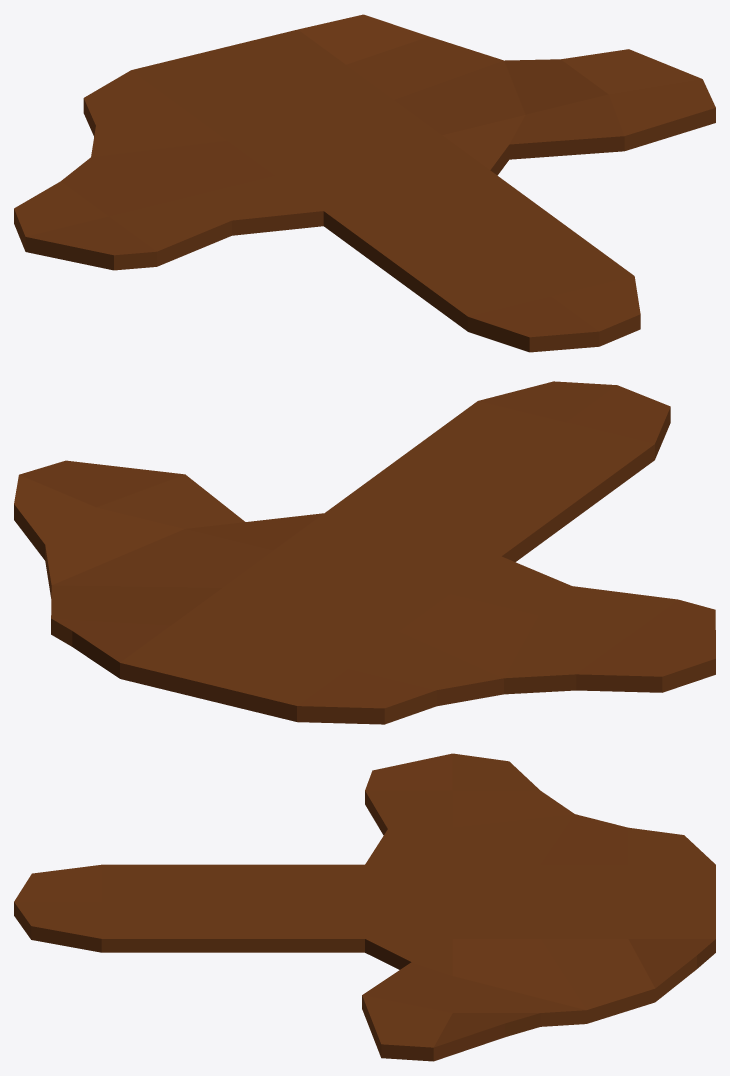
File: Hrib.glb
3 renders of one model, top to bottom at view 1: azimuth 30°, elevation 25°; view 2: azimuth 150°, elevation 25°; view 3: azimuth 270°, elevation 25°, orthographic. The views are drawn at different scales.
Visible parts, largest first — view 1: Hrib; view 2: Hrib; view 3: Hrib.
Part boxes in pixels (x1,y1,x2,y2): Hrib: (14,14,715,352); Hrib: (14,381,715,724); Hrib: (14,753,715,1061).
Size of the model in its own units: 0.032 by 0.00182 by 0.032.
